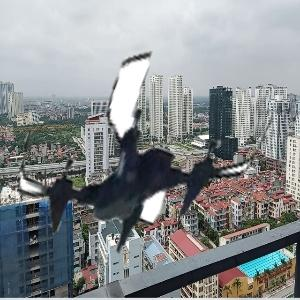drone: (19, 26, 267, 274)
